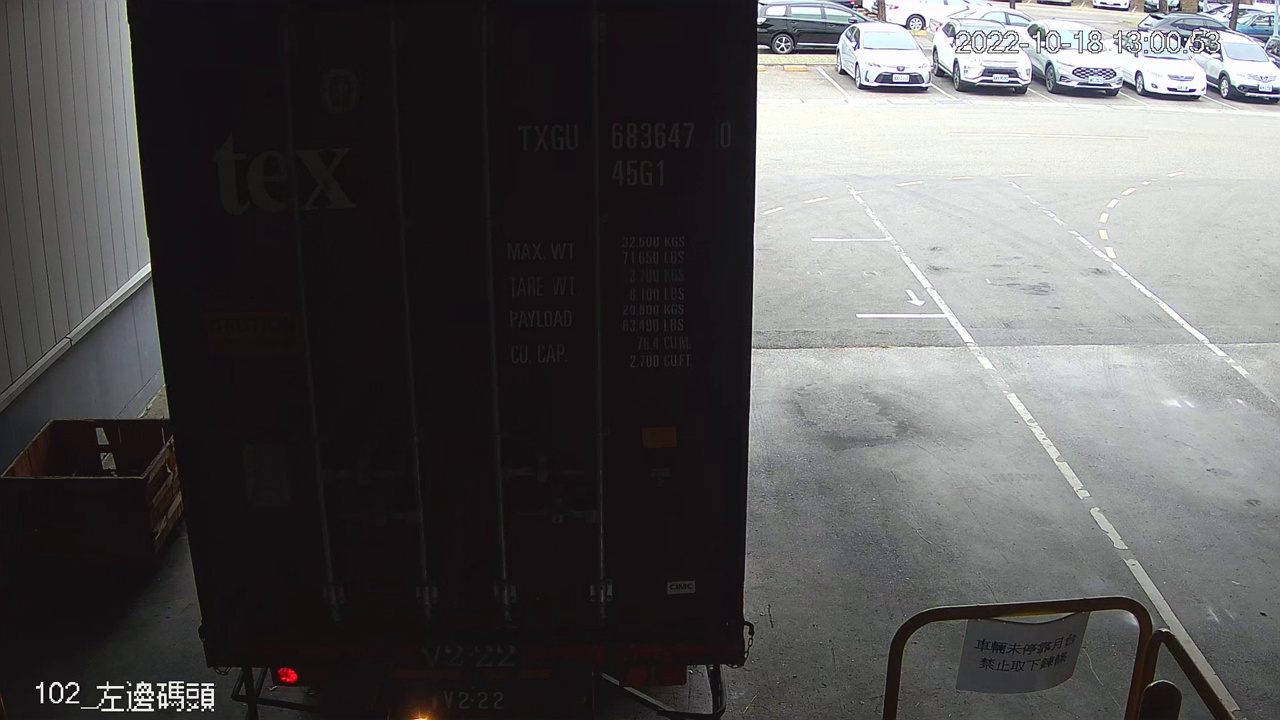container: (508, 109, 741, 192)
